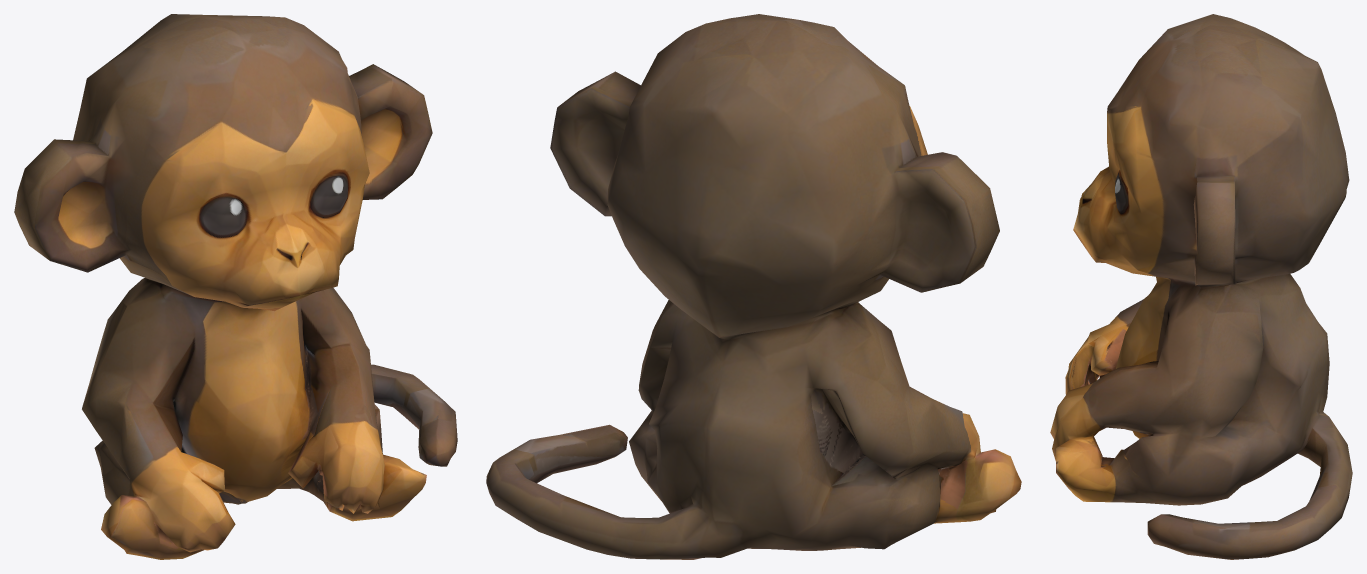
File: Poly_Monkey_1014043635_texture.fbx
3 views of the same model, side by side, from view 1: azimuth 30°, elevation 25°; view 2: azimuth 150°, elevation 25°; view 3: azimuth 270°, elevation 25° (orthographic). The views are drawn at different scales.
Visible parts, largest first — view 1: input; view 2: input; view 3: input.
Boxes of the visible parts, left/top/right/bottom form: input: left=14, top=14, right=457, bottom=559; input: left=486, top=14, right=1021, bottom=559; input: left=1050, top=14, right=1352, bottom=559.
Size of the model in its own units: 185 by 191 by 121.
Materials: 1 (1 with a texture image).
